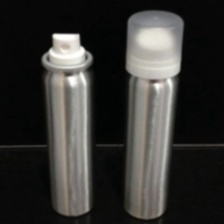aerosol_cans: (115, 5, 189, 222), (38, 29, 98, 221)
